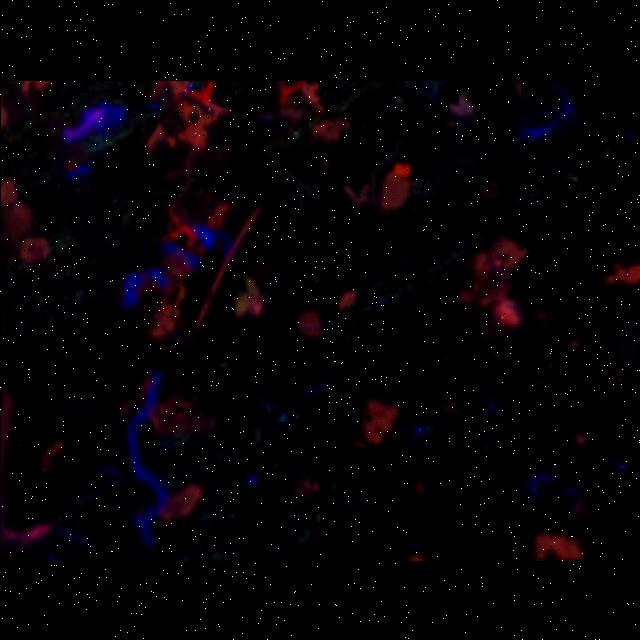Fragment: (357, 397, 398, 446)
